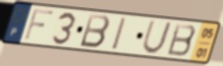3: (49, 11, 77, 46)
B: (78, 13, 112, 50), (165, 22, 198, 58)
F: (22, 8, 57, 43)
I: (110, 16, 128, 52)
U: (140, 20, 174, 56)
